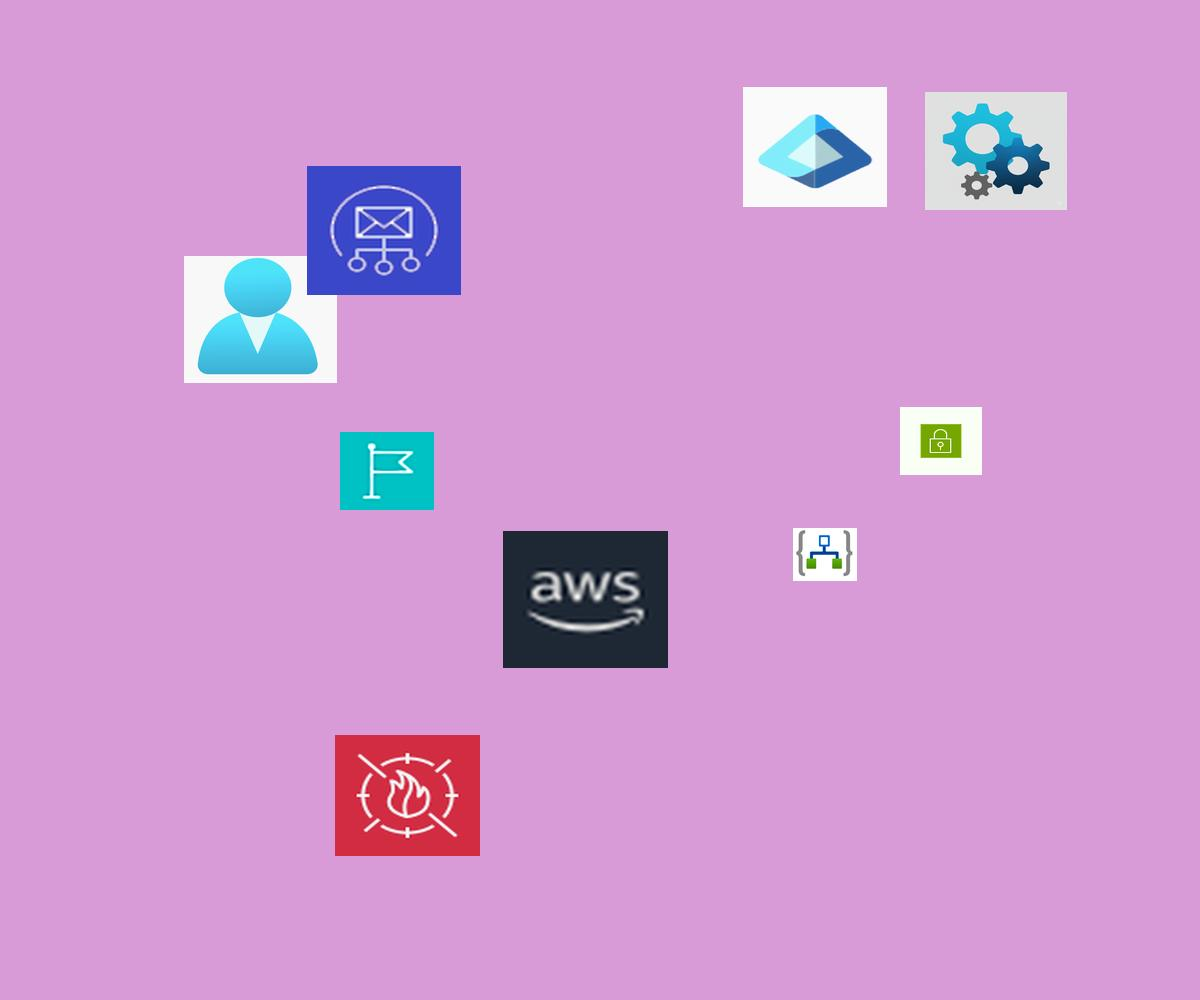AWS-Cloud-logo: (503, 531, 668, 668)
AWS-Public-subnet: (900, 407, 982, 475)
AWS-Region: (340, 432, 434, 510)
AWS-Simple-Email-Service: (307, 166, 461, 295)
AWS-WAF: (335, 735, 480, 856)
Azure_api: (925, 92, 1067, 210)
Azure_integration-204-Logic-Apps: (793, 528, 857, 581)
Azure_microsoft_entra: (743, 87, 887, 207)
Azure_users: (184, 256, 337, 383)
